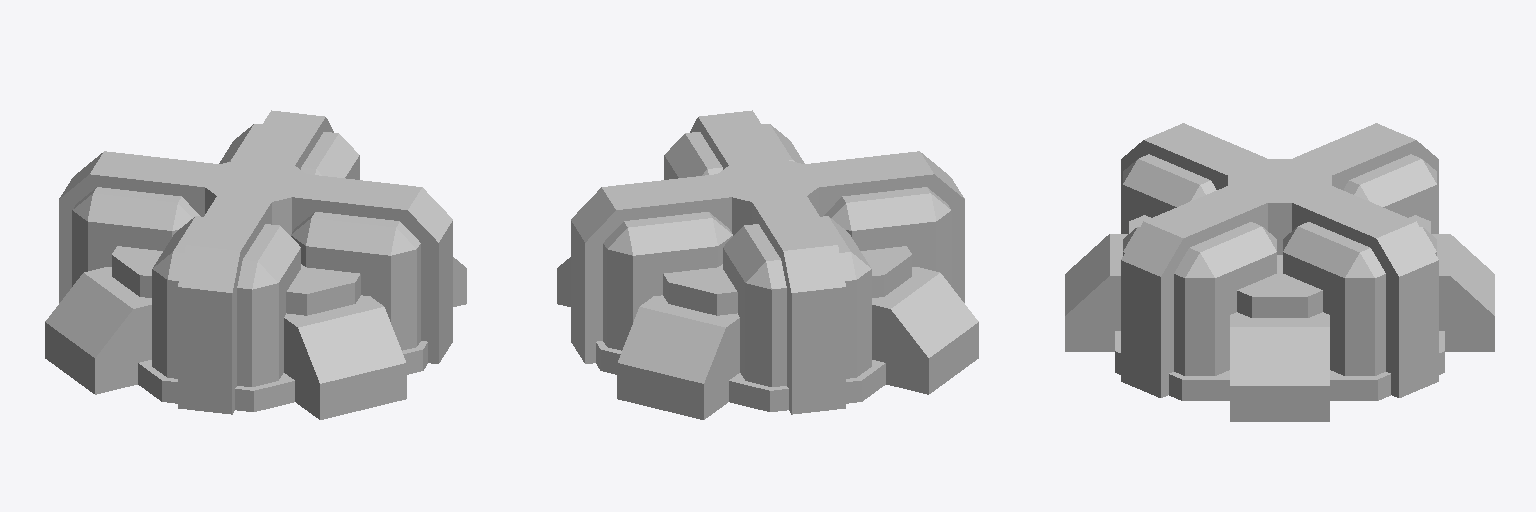
The model's file is coruwms.obj.
3 renders of one model, left to right at view 1: azimuth 30°, elevation 25°; view 2: azimuth 150°, elevation 25°; view 3: azimuth 270°, elevation 25°, orthographic.
Visible parts, largest first — view 1: base,ox=-0.00,oy=0.00,oz=0.00,p=,mx=0.01,my=4.07,mz=-0.01,r=13.0; view 2: base,ox=-0.00,oy=0.00,oz=0.00,p=,mx=0.01,my=4.07,mz=-0.01,r=13.0; view 3: base,ox=-0.00,oy=0.00,oz=0.00,p=,mx=0.01,my=4.07,mz=-0.01,r=13.0.
Part boxes in pixels (x1,y1,x2,y2): base,ox=-0.00,oy=0.00,oz=0.00,p=,mx=0.01,my=4.07,mz=-0.01,r=13.0: (45, 110, 466, 419); base,ox=-0.00,oy=0.00,oz=0.00,p=,mx=0.01,my=4.07,mz=-0.01,r=13.0: (557, 110, 978, 419); base,ox=-0.00,oy=0.00,oz=0.00,p=,mx=0.01,my=4.07,mz=-0.01,r=13.0: (1065, 123, 1494, 421).
Size of the model in its own units: 65.28 by 25.25 by 65.28.